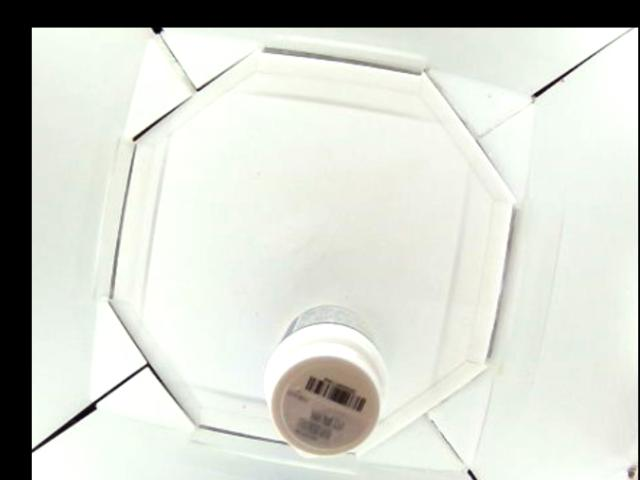Bottle: (262, 305, 384, 457)
